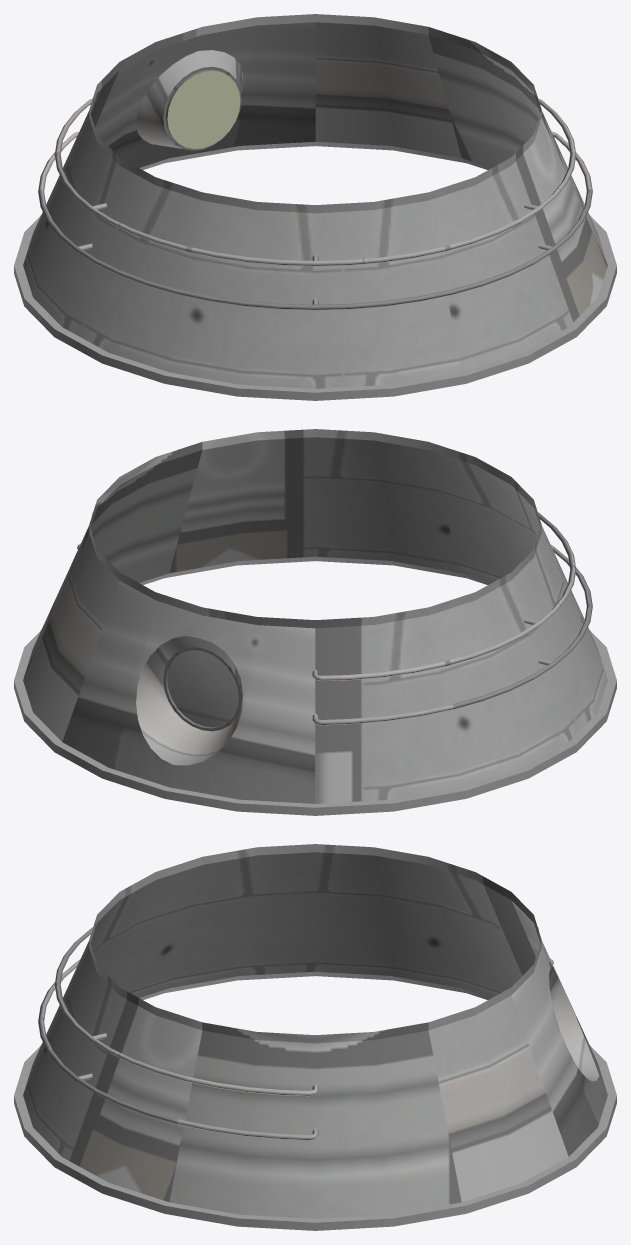
The model's file is eridani_adapter_s2_s1p5_1.obj.
3 views of the same model, one above another, from view 1: azimuth 30°, elevation 25°; view 2: azimuth 150°, elevation 25°; view 3: azimuth 270°, elevation 25° (orthographic).
Visible parts, largest first — view 1: mesh1, windows1; view 2: mesh1, windows1; view 3: mesh1.
Boxes of the visible parts, left/top/right/bottom form: mesh1: left=14, top=14, right=616, bottom=400; windows1: left=167, top=70, right=240, bottom=148; mesh1: left=14, top=429, right=616, bottom=815; windows1: left=167, top=650, right=238, bottom=727; mesh1: left=14, top=844, right=616, bottom=1230.
Bounding box in the file's own units: 2.5 × 0.75 × 2.5.
Materials: 3 (2 with a texture image).
